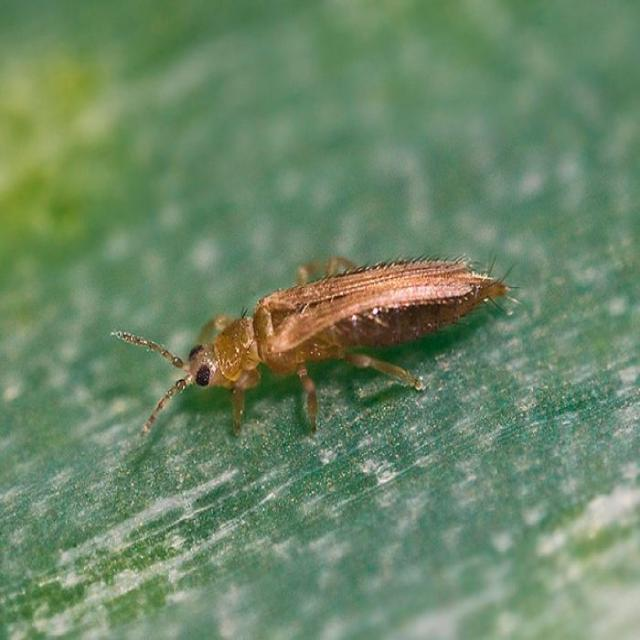thrip: (102, 260, 517, 446)
